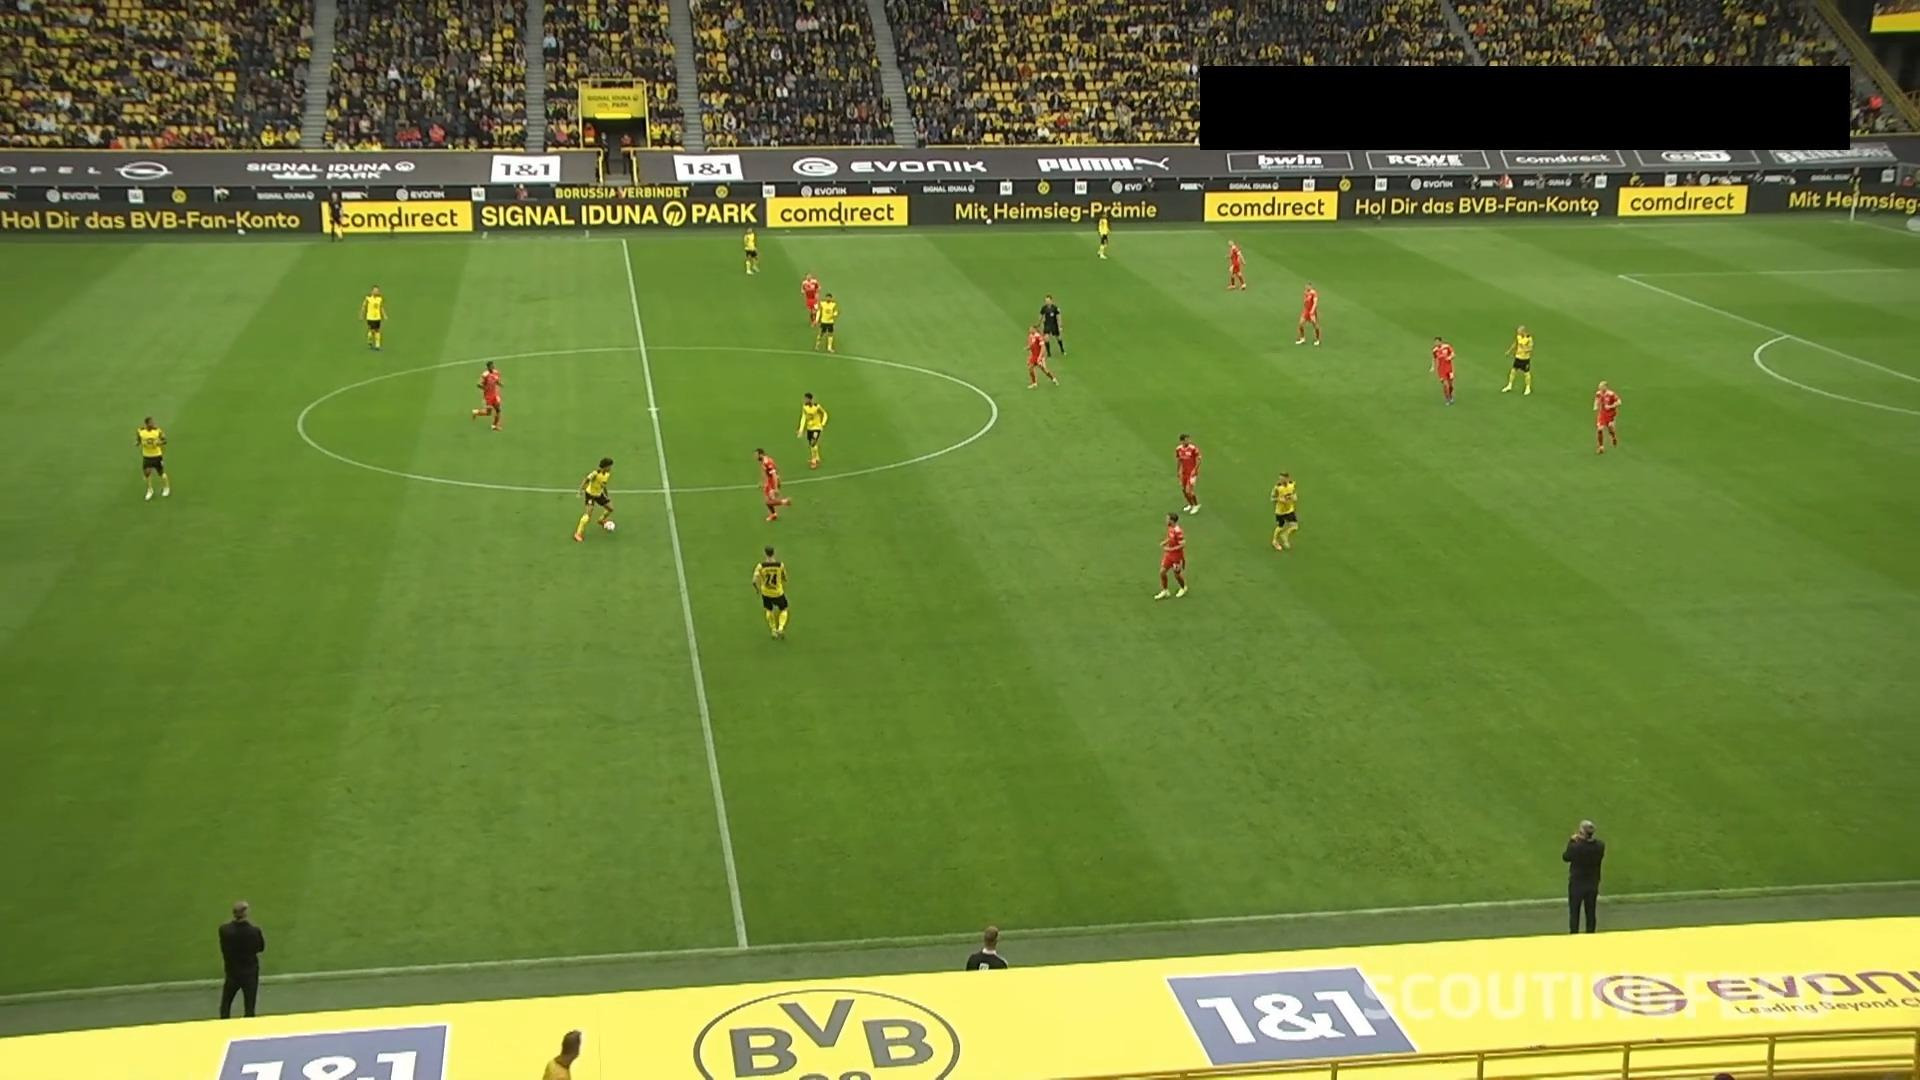ball: (603, 520, 617, 535)
